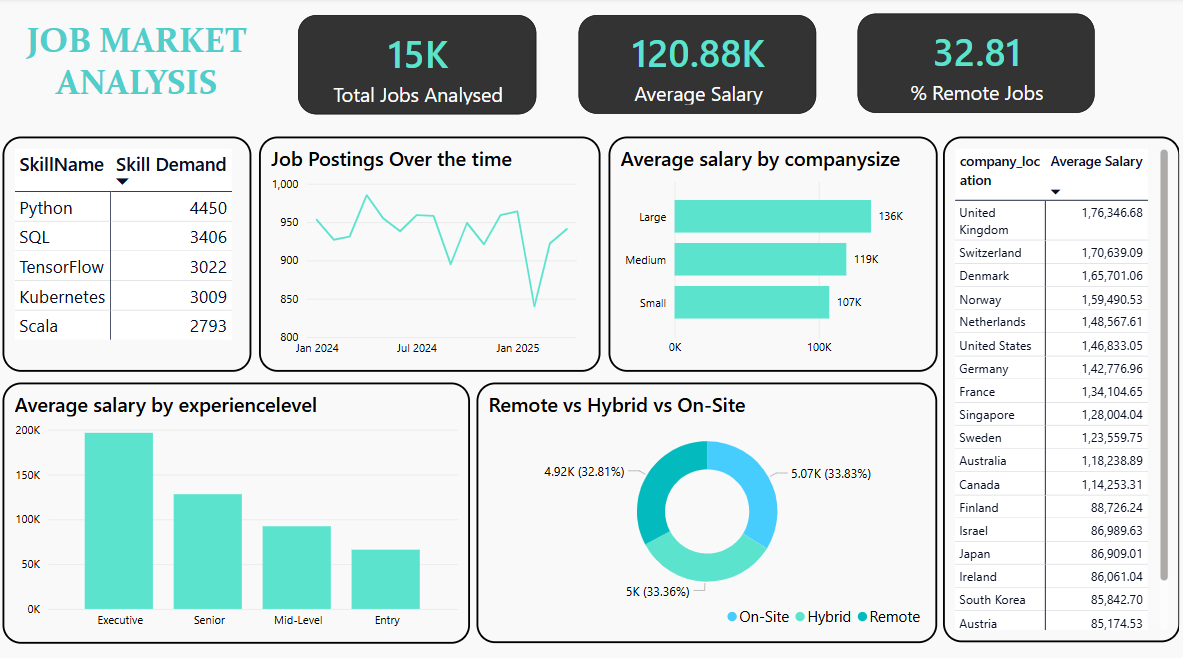

The dashboard page shown, as its layout file describes it:
{"tool":"powerbi","page":{"name":"Job Market Analysis","canvas":[1280,720],"ordinal":0},"visuals":[{"type":"textbox","title":"Header","box":[21.7,0,256.7,126.7],"z":0},{"type":"card","fields":{"Values":["Measures_tbl.Total Jobs"]},"box":[324.3,20,257.1,107.1],"z":1000},{"type":"card","fields":{"Values":["Measures_tbl.Average Salary"]},"box":[626.7,20,256.7,106.7],"z":2000},{"type":"card","fields":{"Values":["Measures_tbl.% Remote Jobs"]},"box":[928.6,18.6,255.7,107.1],"z":3000},{"type":"pivotTable","fields":{"Rows":["Skills.SkillName"],"Values":["Measures_tbl.Skill Demand"]},"box":[5.3,150,268.4,254.2],"z":4000},{"type":"pivotTable","fields":{"Rows":["job_dataset.company_location"],"Values":["Measures_tbl.Average Salary"]},"box":[1020,150,256.3,545.8],"z":5000},{"type":"columnChart","fields":{"Category":["job_dataset.experiencelevel"],"Y":["job_dataset.salary"]},"box":[5.3,415.8,504.7,282.1],"z":6000},{"type":"lineChart","title":"Jon Postings Over the time","fields":{"Category":["job_dataset.Start of Month.Variation.Date Hierarchy.Year","job_dataset.Start of Month.Variation.Date Hierarchy.Month"],"Y":["job_dataset.job_id"]},"box":[282.1,150,368.9,254.2],"z":7000},{"type":"clusteredBarChart","fields":{"Category":["job_dataset.companysize"],"Y":["job_dataset.salary"]},"box":[658.4,150,355.3,253.7],"z":8000},{"type":"donutChart","title":"Remote vs Hybrid vs On-Site","fields":{"Y":["job_dataset.job_id"],"Category":["job_dataset.JobType"]},"box":[516.3,416.3,497.4,281.1],"z":9000}]}

Visuals, with their boxes in screenshot pixels (x1, y1, x2, y2), scaled from the page's 1280x720 canvas onto the 1183x658 screenshot:
"Header" textbox: box=[20, 0, 257, 116]
card - Measures_tbl.Total Jobs: box=[300, 18, 537, 116]
card - Measures_tbl.Average Salary: box=[579, 18, 816, 116]
card - Measures_tbl.% Remote Jobs: box=[858, 17, 1095, 115]
pivotTable - Skills.SkillName x Measures_tbl.Skill Demand: box=[5, 137, 253, 369]
pivotTable - job_dataset.company_location x Measures_tbl.Average Salary: box=[943, 137, 1180, 636]
columnChart - job_dataset.experiencelevel x job_dataset.salary: box=[5, 380, 471, 638]
"Jon Postings Over the time" lineChart: box=[261, 137, 602, 369]
clusteredBarChart - job_dataset.companysize x job_dataset.salary: box=[609, 137, 937, 369]
"Remote vs Hybrid vs On-Site" donutChart: box=[477, 380, 937, 637]
